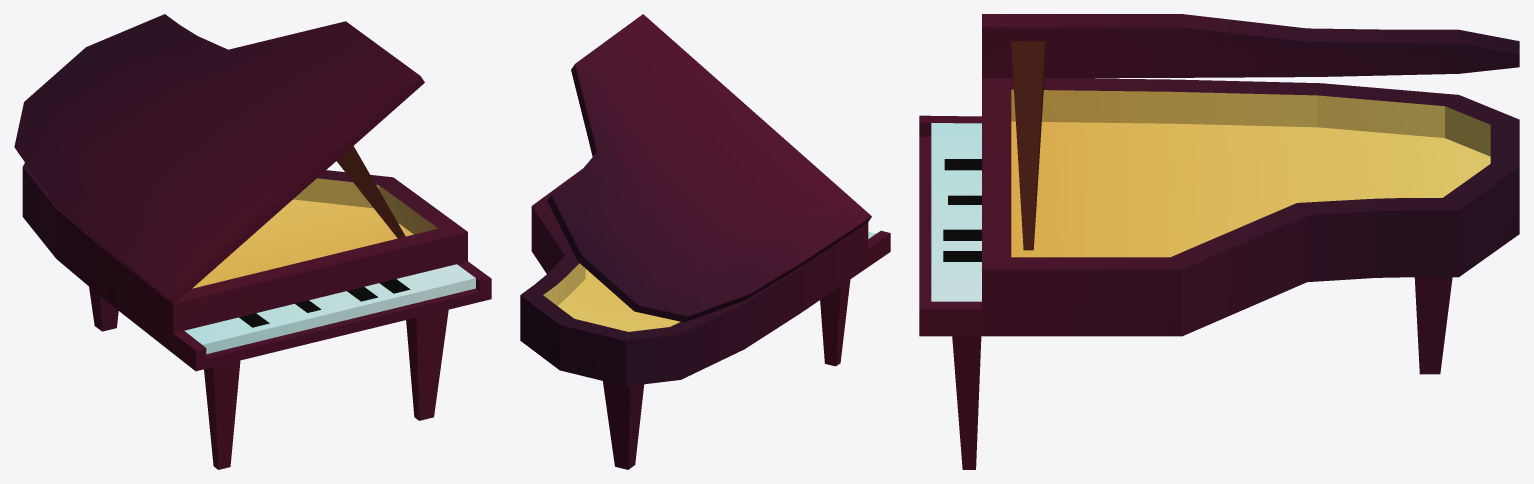
The model's file is piano.fbx.
The picture shows the model from 3 angles, left to right: view 1: azimuth 30°, elevation 25°; view 2: azimuth 150°, elevation 25°; view 3: azimuth 270°, elevation 25°; orthographic projection. The views are drawn at different scales.
Visible parts, largest first — view 1: Cube; view 2: Cube; view 3: Cube.
Part boxes in pixels (x1,y1,x2,y2): Cube: (14,14,491,469); Cube: (520,14,890,469); Cube: (919,14,1519,469).
Size of the model in its own units: 210 by 272 by 226.
1 material, 1 textured.
